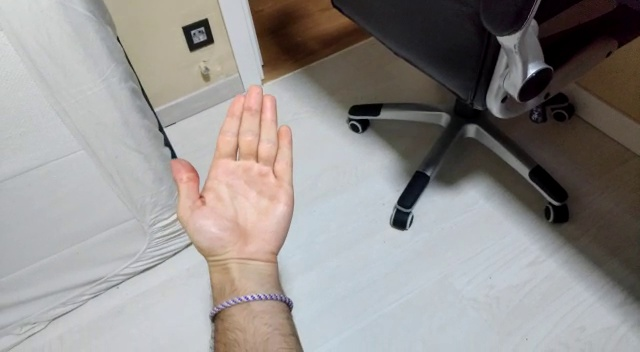Palm: (168, 80, 298, 290)
